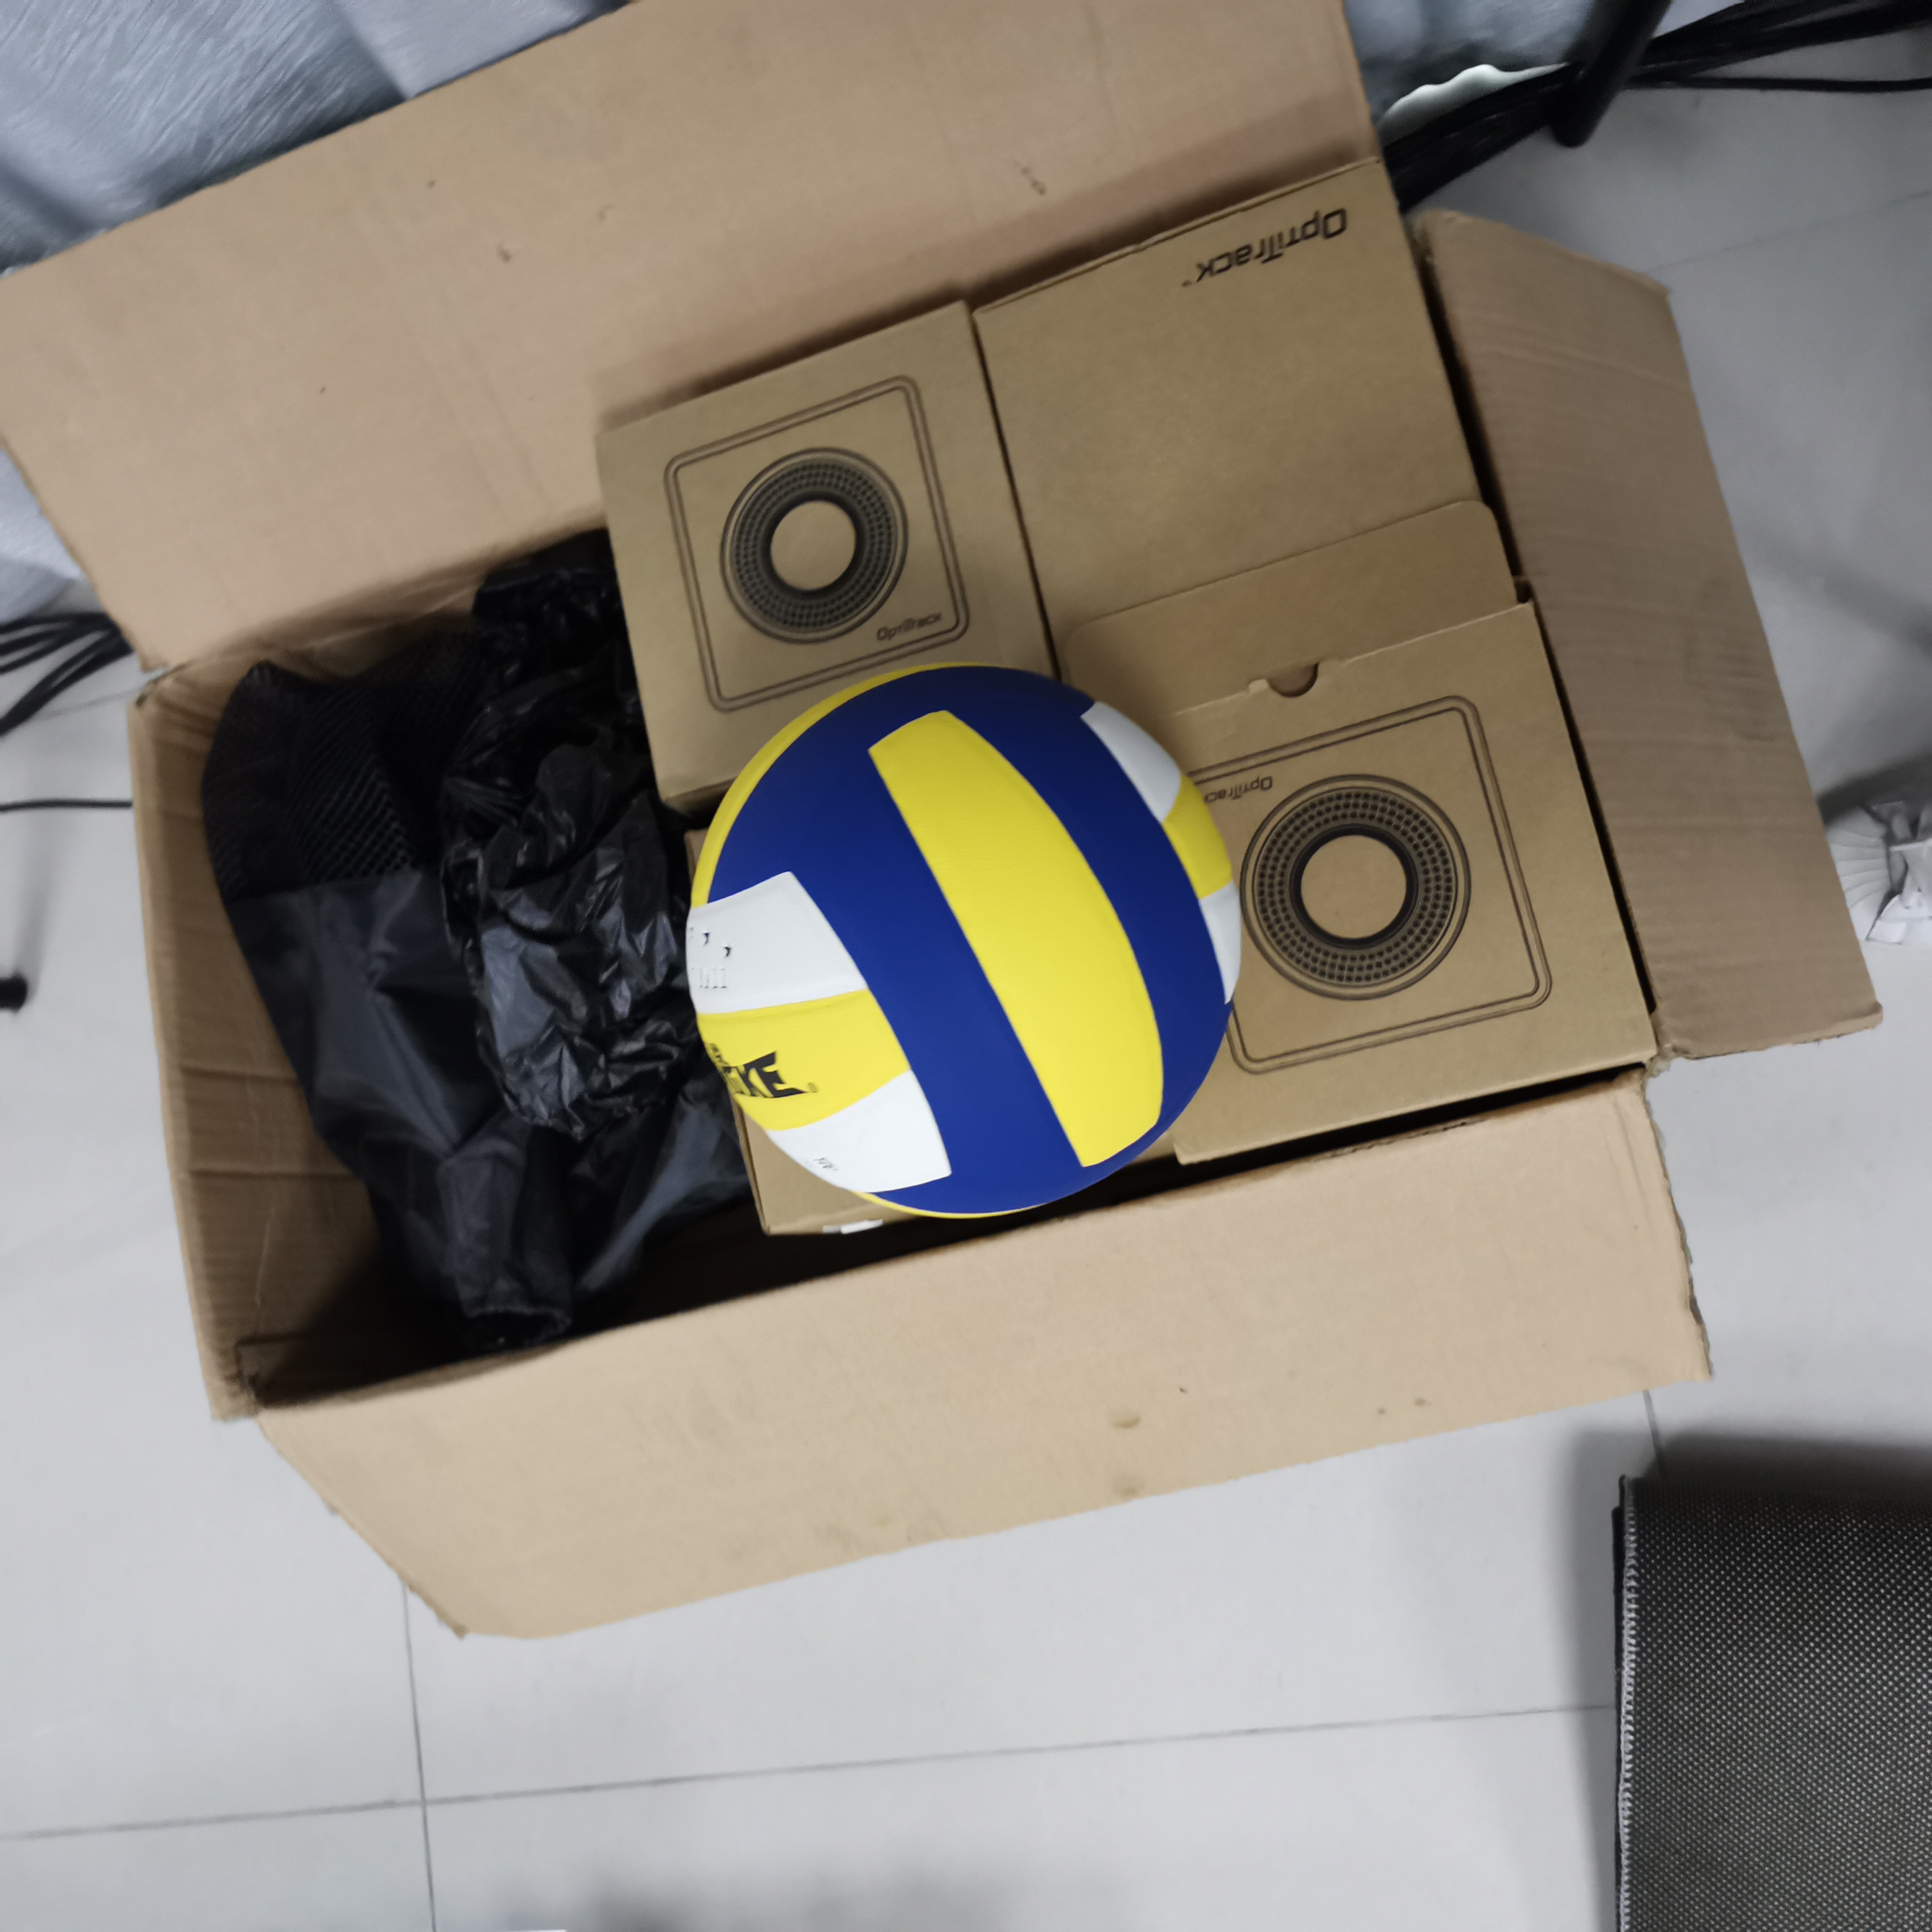volleyball: (685, 674, 1247, 1223)
